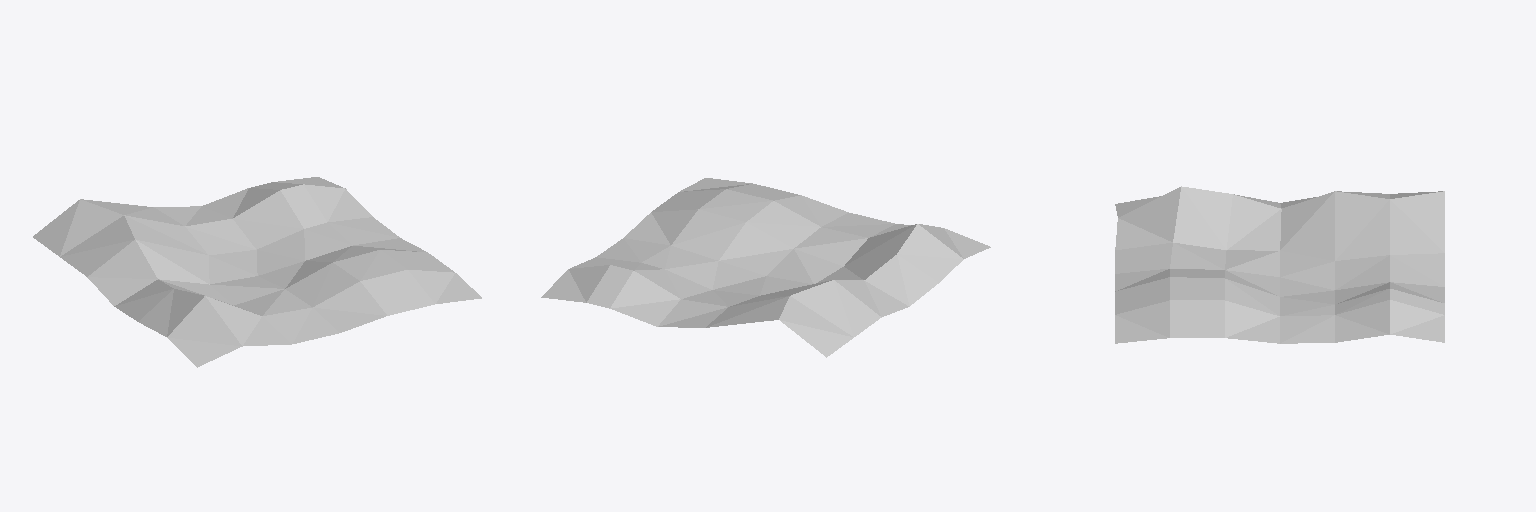
Rendered from Suelo.obj.
3 views of the same model, side by side, from view 1: azimuth 30°, elevation 25°; view 2: azimuth 150°, elevation 25°; view 3: azimuth 270°, elevation 25° (orthographic).
Parts seen in each view (by area): view 1: Suelo_Plane; view 2: Suelo_Plane; view 3: Suelo_Plane.
Boxes of the visible parts, <box> form: Suelo_Plane: <box>33,177,481,367</box>; Suelo_Plane: <box>541,178,990,357</box>; Suelo_Plane: <box>1115,186,1444,343</box>.
Size of the model in its own units: 120 by 16.49 by 119.